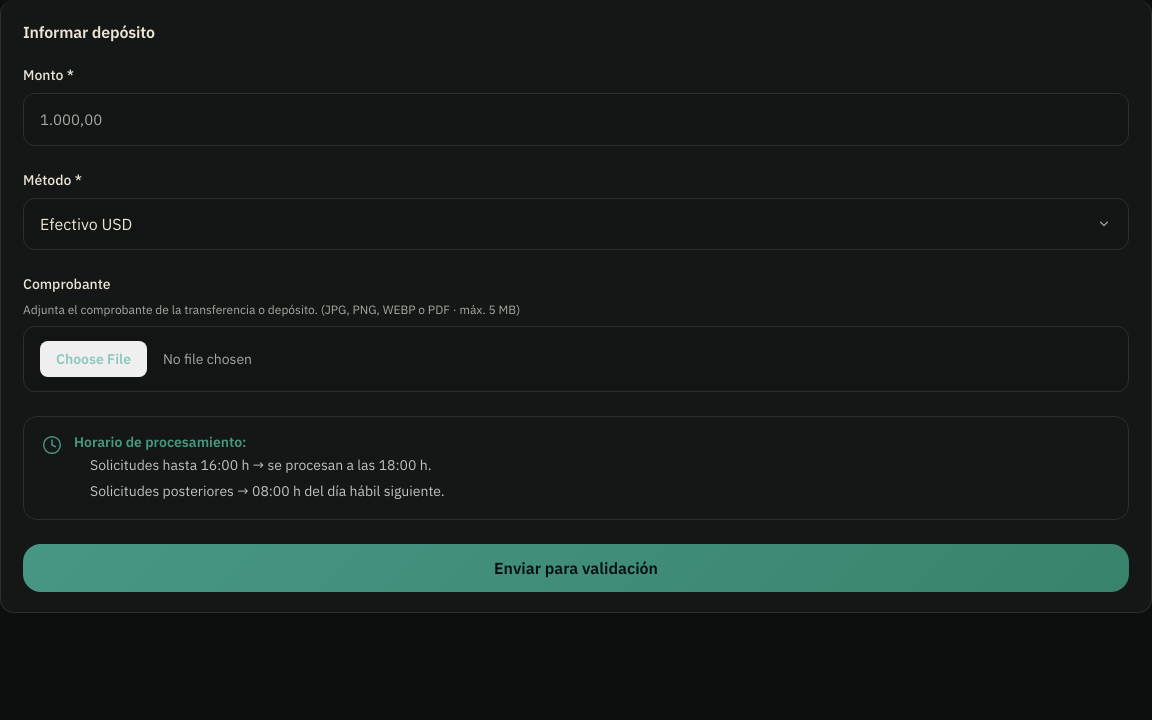
Test: DepositForm › submits successfully
The image size is (1152, 720).
Type "10" into the number field labelled "Monto *" at [576, 119], box [23,93,1129,146]
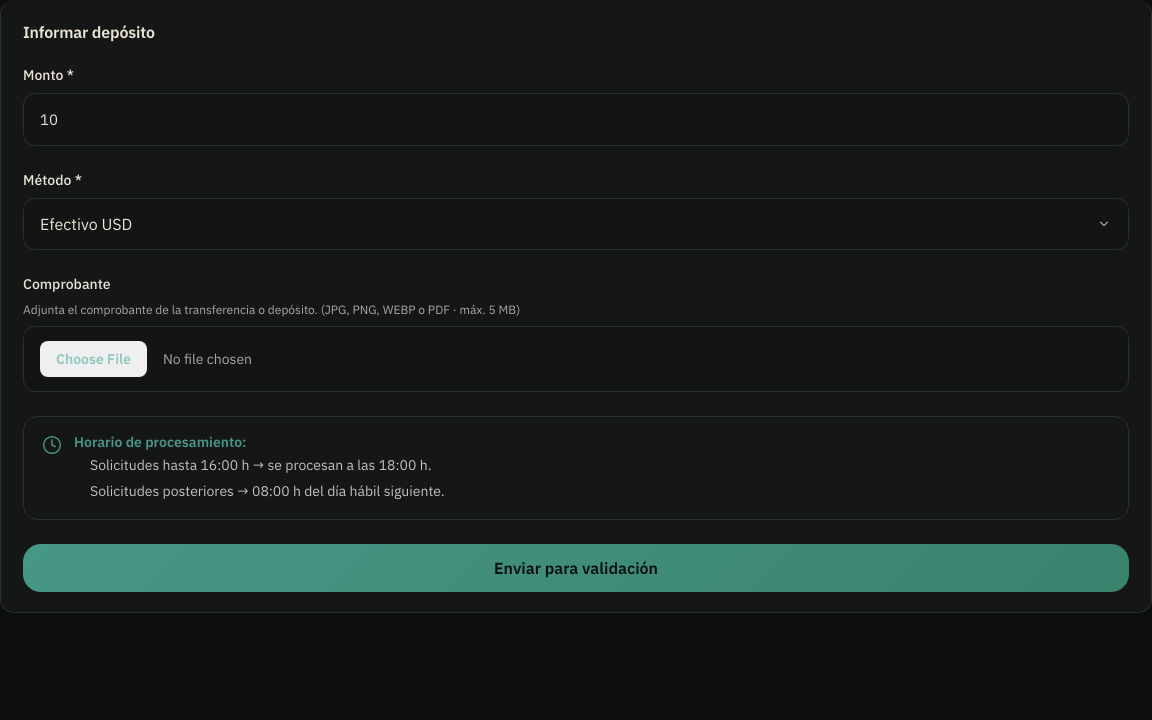
Submit the form
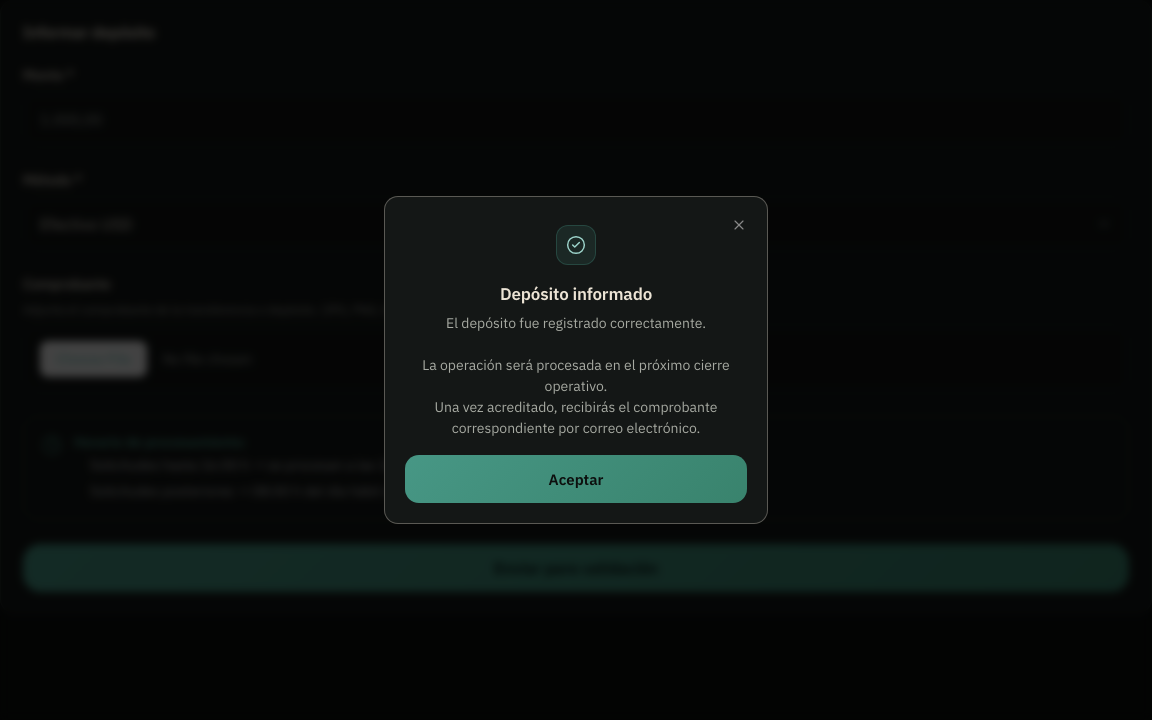
Check: the heading "Depósito informado" is shown, box [500,283,652,305]
Check: the button "Aceptar" is shown, box [405,455,747,503]
